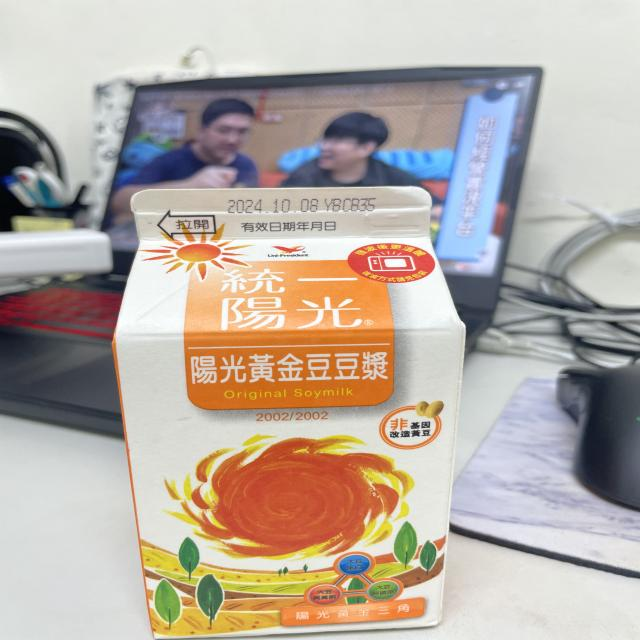TongYi_SoyMilk: (111, 181, 476, 640)
